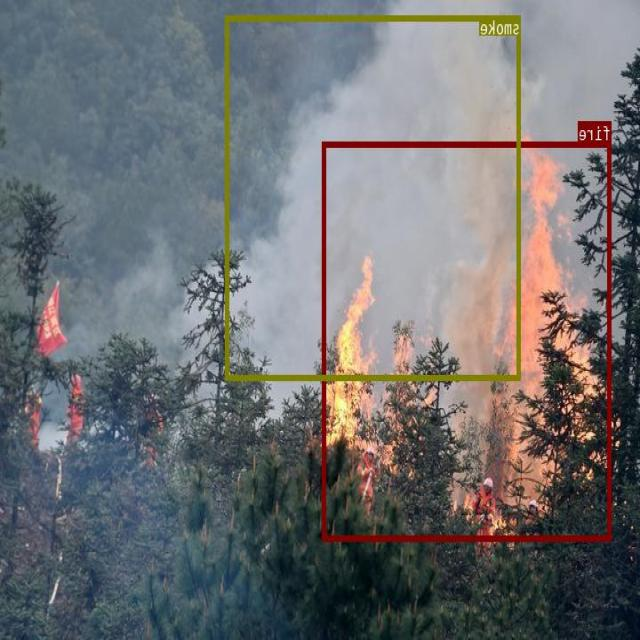fire: (323, 141, 612, 540)
smoke: (226, 15, 522, 380)
